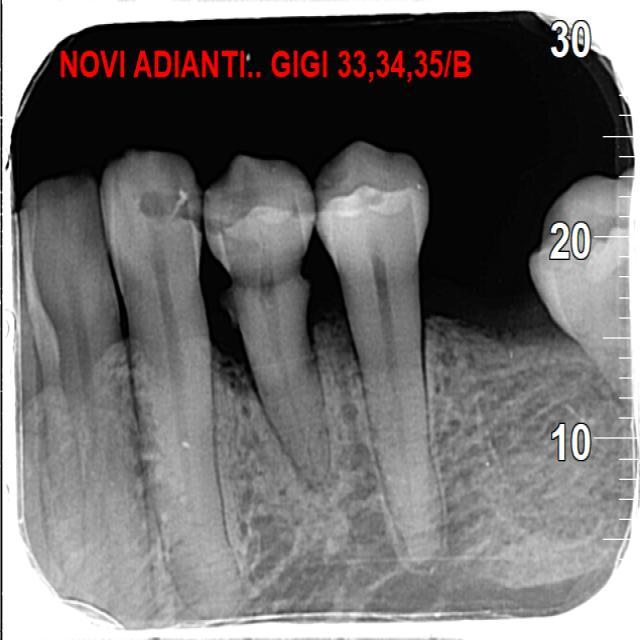individual-tooth-8tto: (104, 154, 239, 614), (314, 151, 452, 580), (204, 157, 338, 486)
